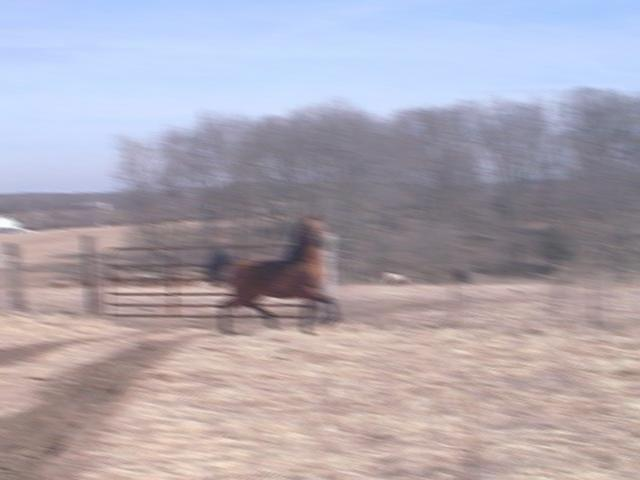horse: (202, 210, 339, 335)
